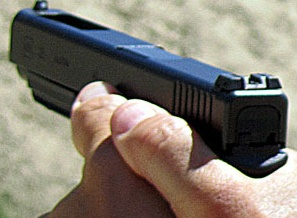pistol: (7, 1, 297, 179)
